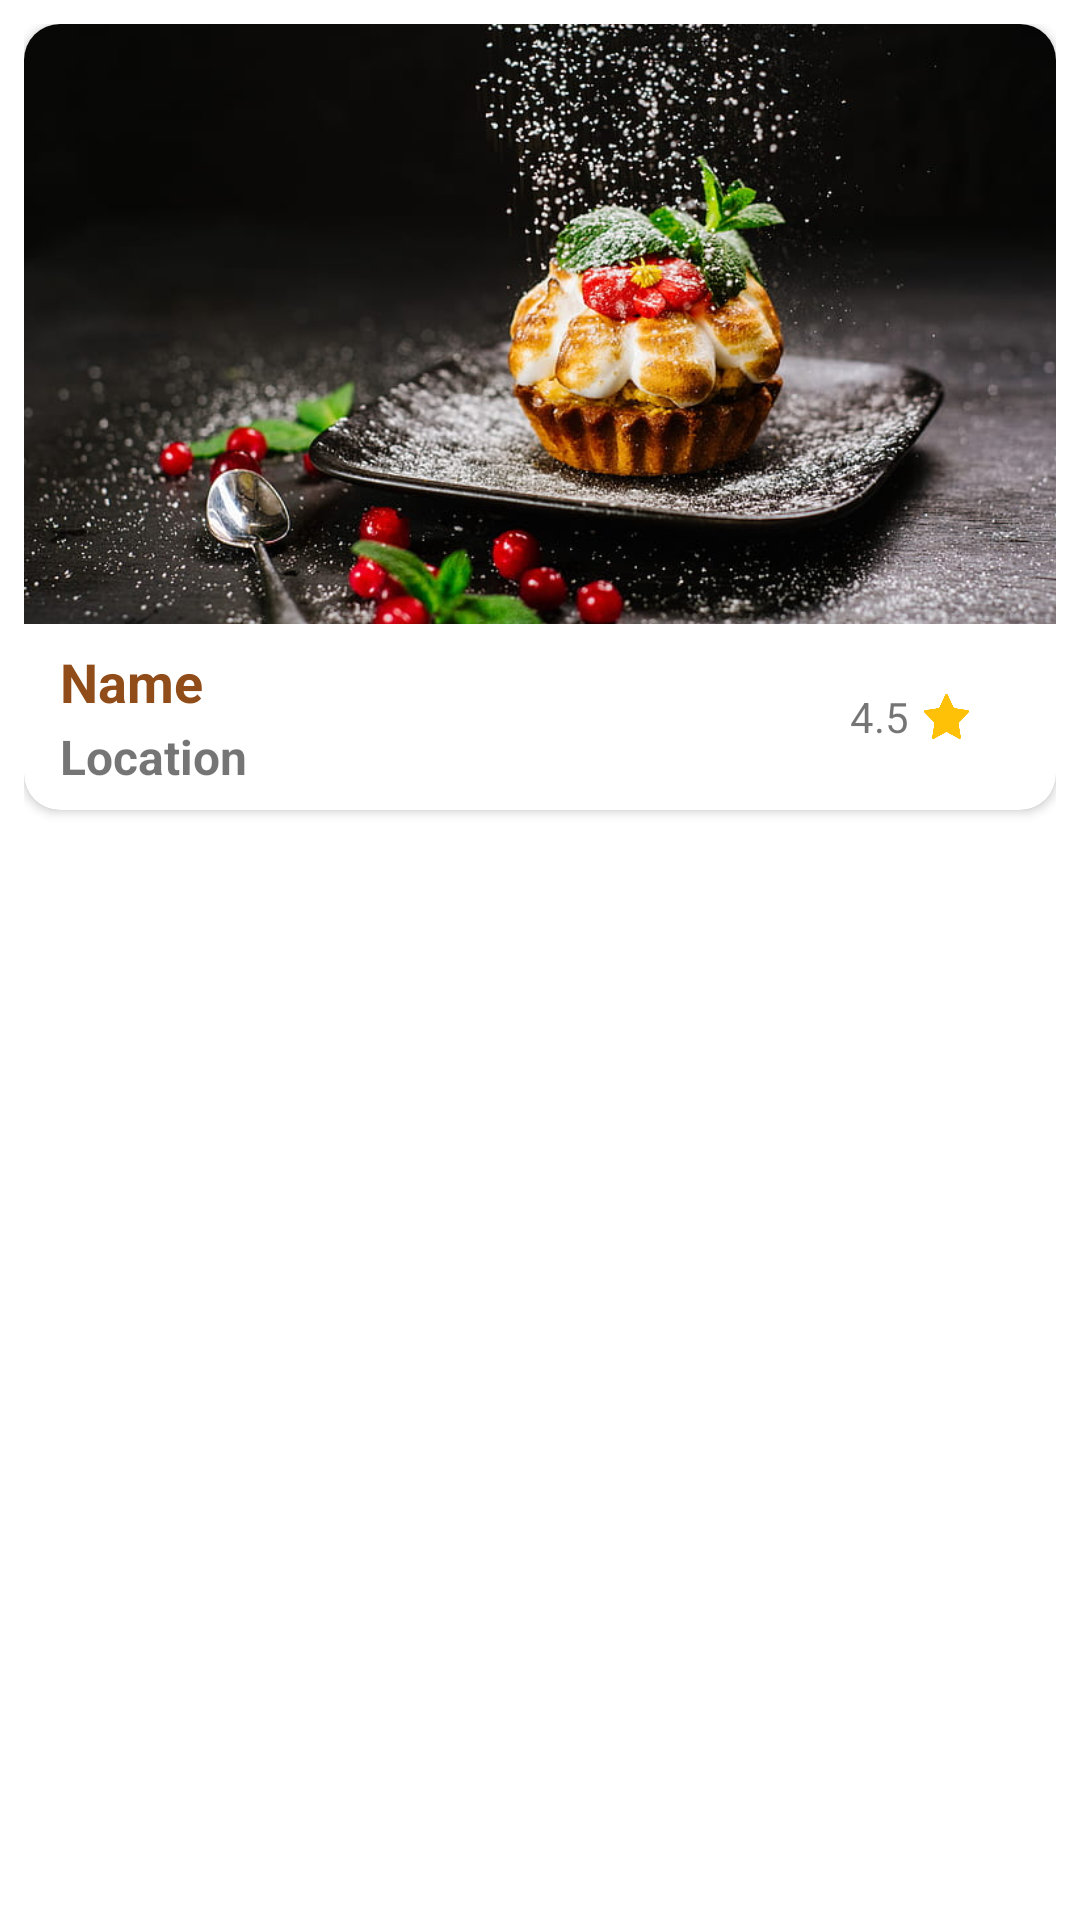

Icon bounding boxes for this 1080*1920 phone screenshot, format [x1, y1, x2, y2]:
star: [924, 694, 969, 739]
